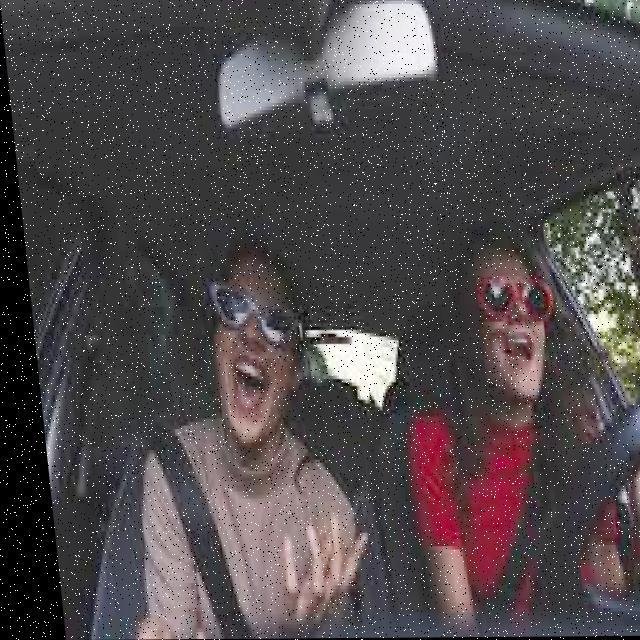seatbelt: (118, 408, 324, 640), (420, 369, 560, 630)
